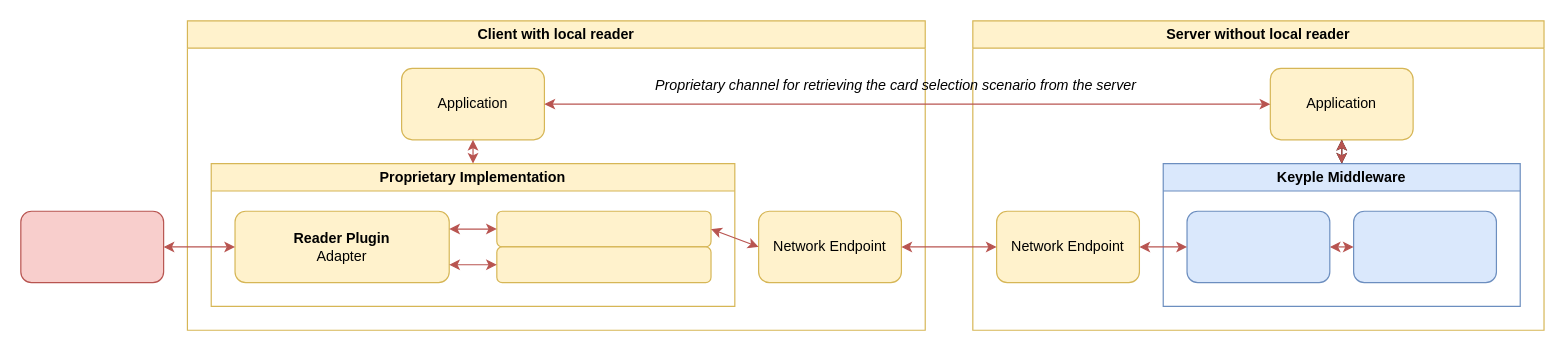
Some shapes in this 1565 by 351 pixel diagram are drawn without their labels. The shapes that lost their labels are listed below. From the top down, each one's centre as x and y in pixels, then its label:
At [92,246]: "Hardware Reader (Card, SAM, HSM, etc.)".
At [603,228]: "Server JSON API Adapter".
At [1258,246]: "Keyple Distributed ( remote components)".
At [1424,246]: "Keyple: - core services - card extension".
At [603,264]: "Selection JSON Specification Adapter".
